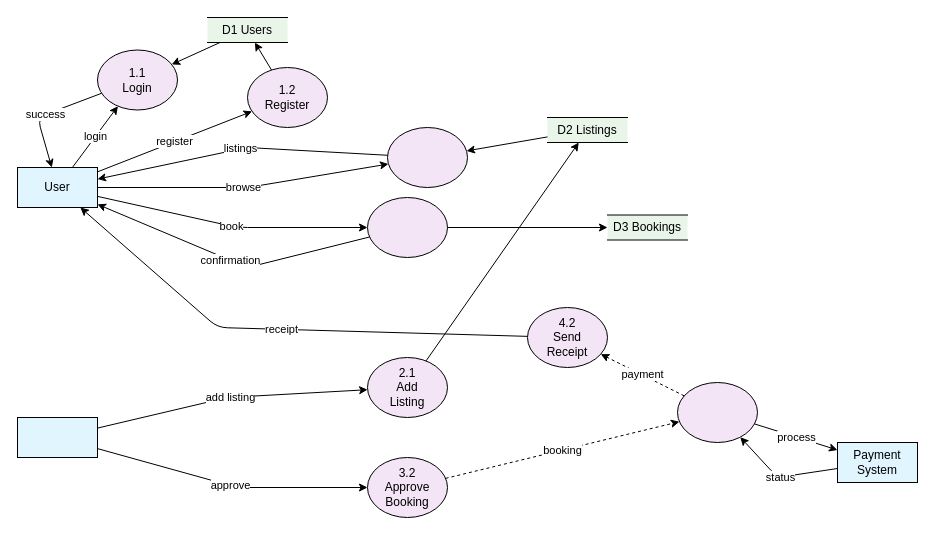
Image size: 935x535. Some labels were removed from this diagram. Each missing label, with the centre of its shape:
2.2 Browse Listings: pixel 427 157
3.1 Make Booking: pixel 407 227
4.1 Process Payment: pixel 717 412
Owner: pixel 57 437
